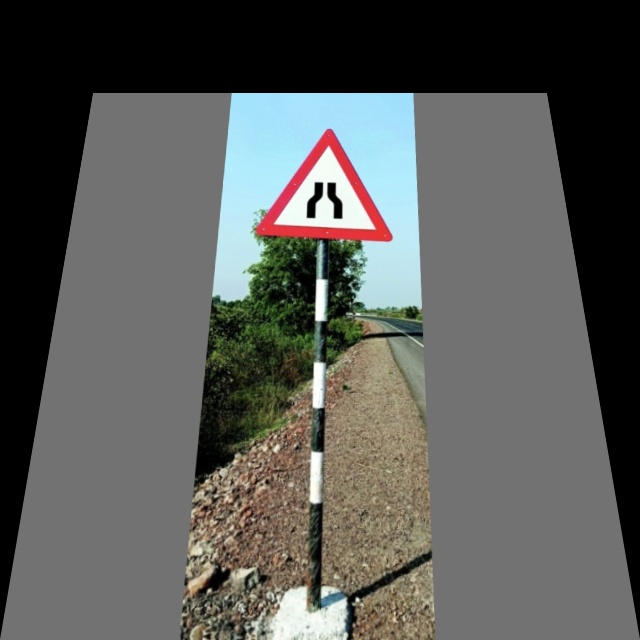Narrow_Road_Ahead: (257, 128, 397, 243)
